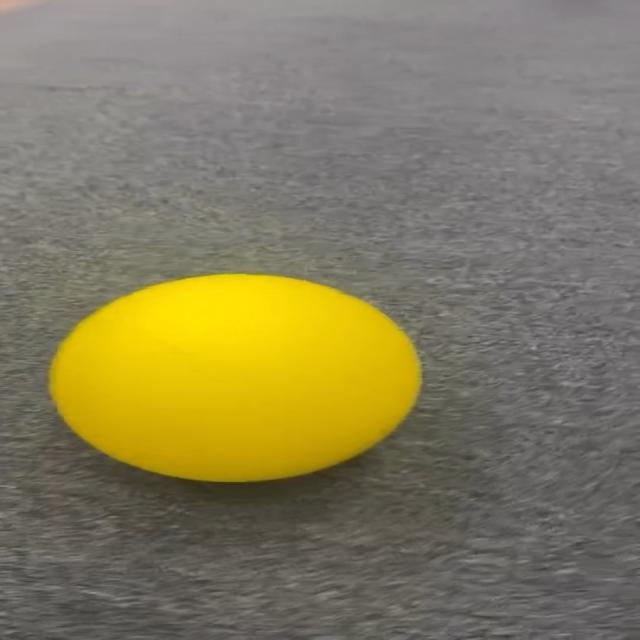Fuels: (50, 270, 417, 478)
